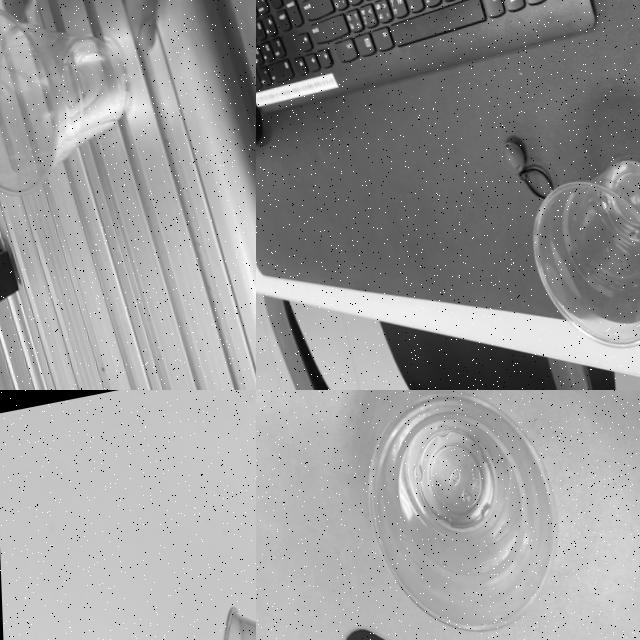glass: (335, 390, 591, 640), (0, 0, 155, 213), (507, 149, 640, 365)
